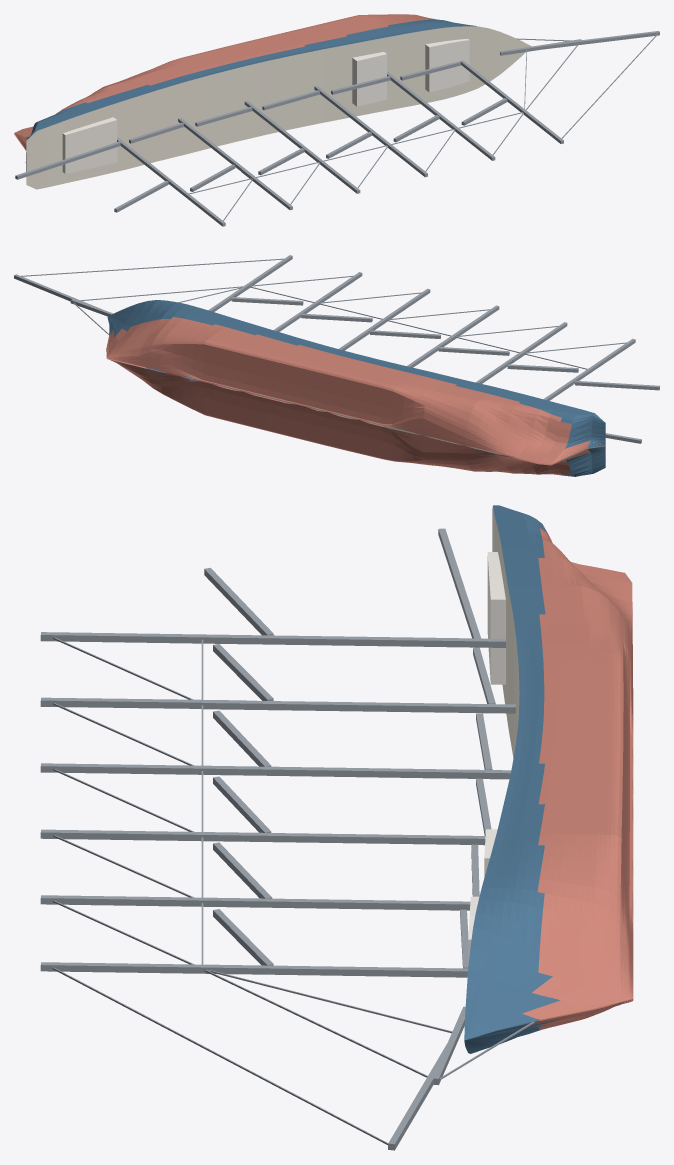
Rendered from wyoming-lines.glb.
3 views of the same model, one above another, from view 1: azimuth 30°, elevation 25°; view 2: azimuth 150°, elevation 25°; view 3: azimuth 270°, elevation 25° (orthographic). The views are drawn at different scales.
Visible parts, largest first — view 1: Wyoming; view 2: Wyoming; view 3: Wyoming.
Boxes of the visible parts, <box> form: Wyoming: <box>14,14,659,226</box>; Wyoming: <box>14,255,659,476</box>; Wyoming: <box>40,505,633,1150</box>.
Bounding box in the file's own units: 2.53 × 0.2855 × 1.03.
